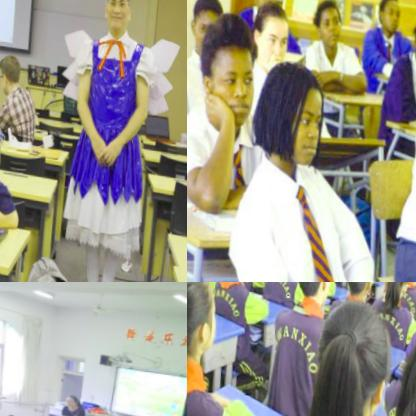head: (250, 49, 333, 176), (307, 289, 390, 416), (190, 10, 261, 127), (248, 0, 295, 75), (187, 282, 220, 357), (187, 0, 229, 55), (310, 0, 348, 47), (99, 0, 137, 31), (371, 0, 404, 33), (285, 282, 334, 300), (404, 4, 416, 72), (0, 50, 19, 90), (341, 282, 375, 296), (248, 0, 281, 14), (58, 390, 79, 407), (381, 282, 407, 292), (4, 410, 17, 416)
